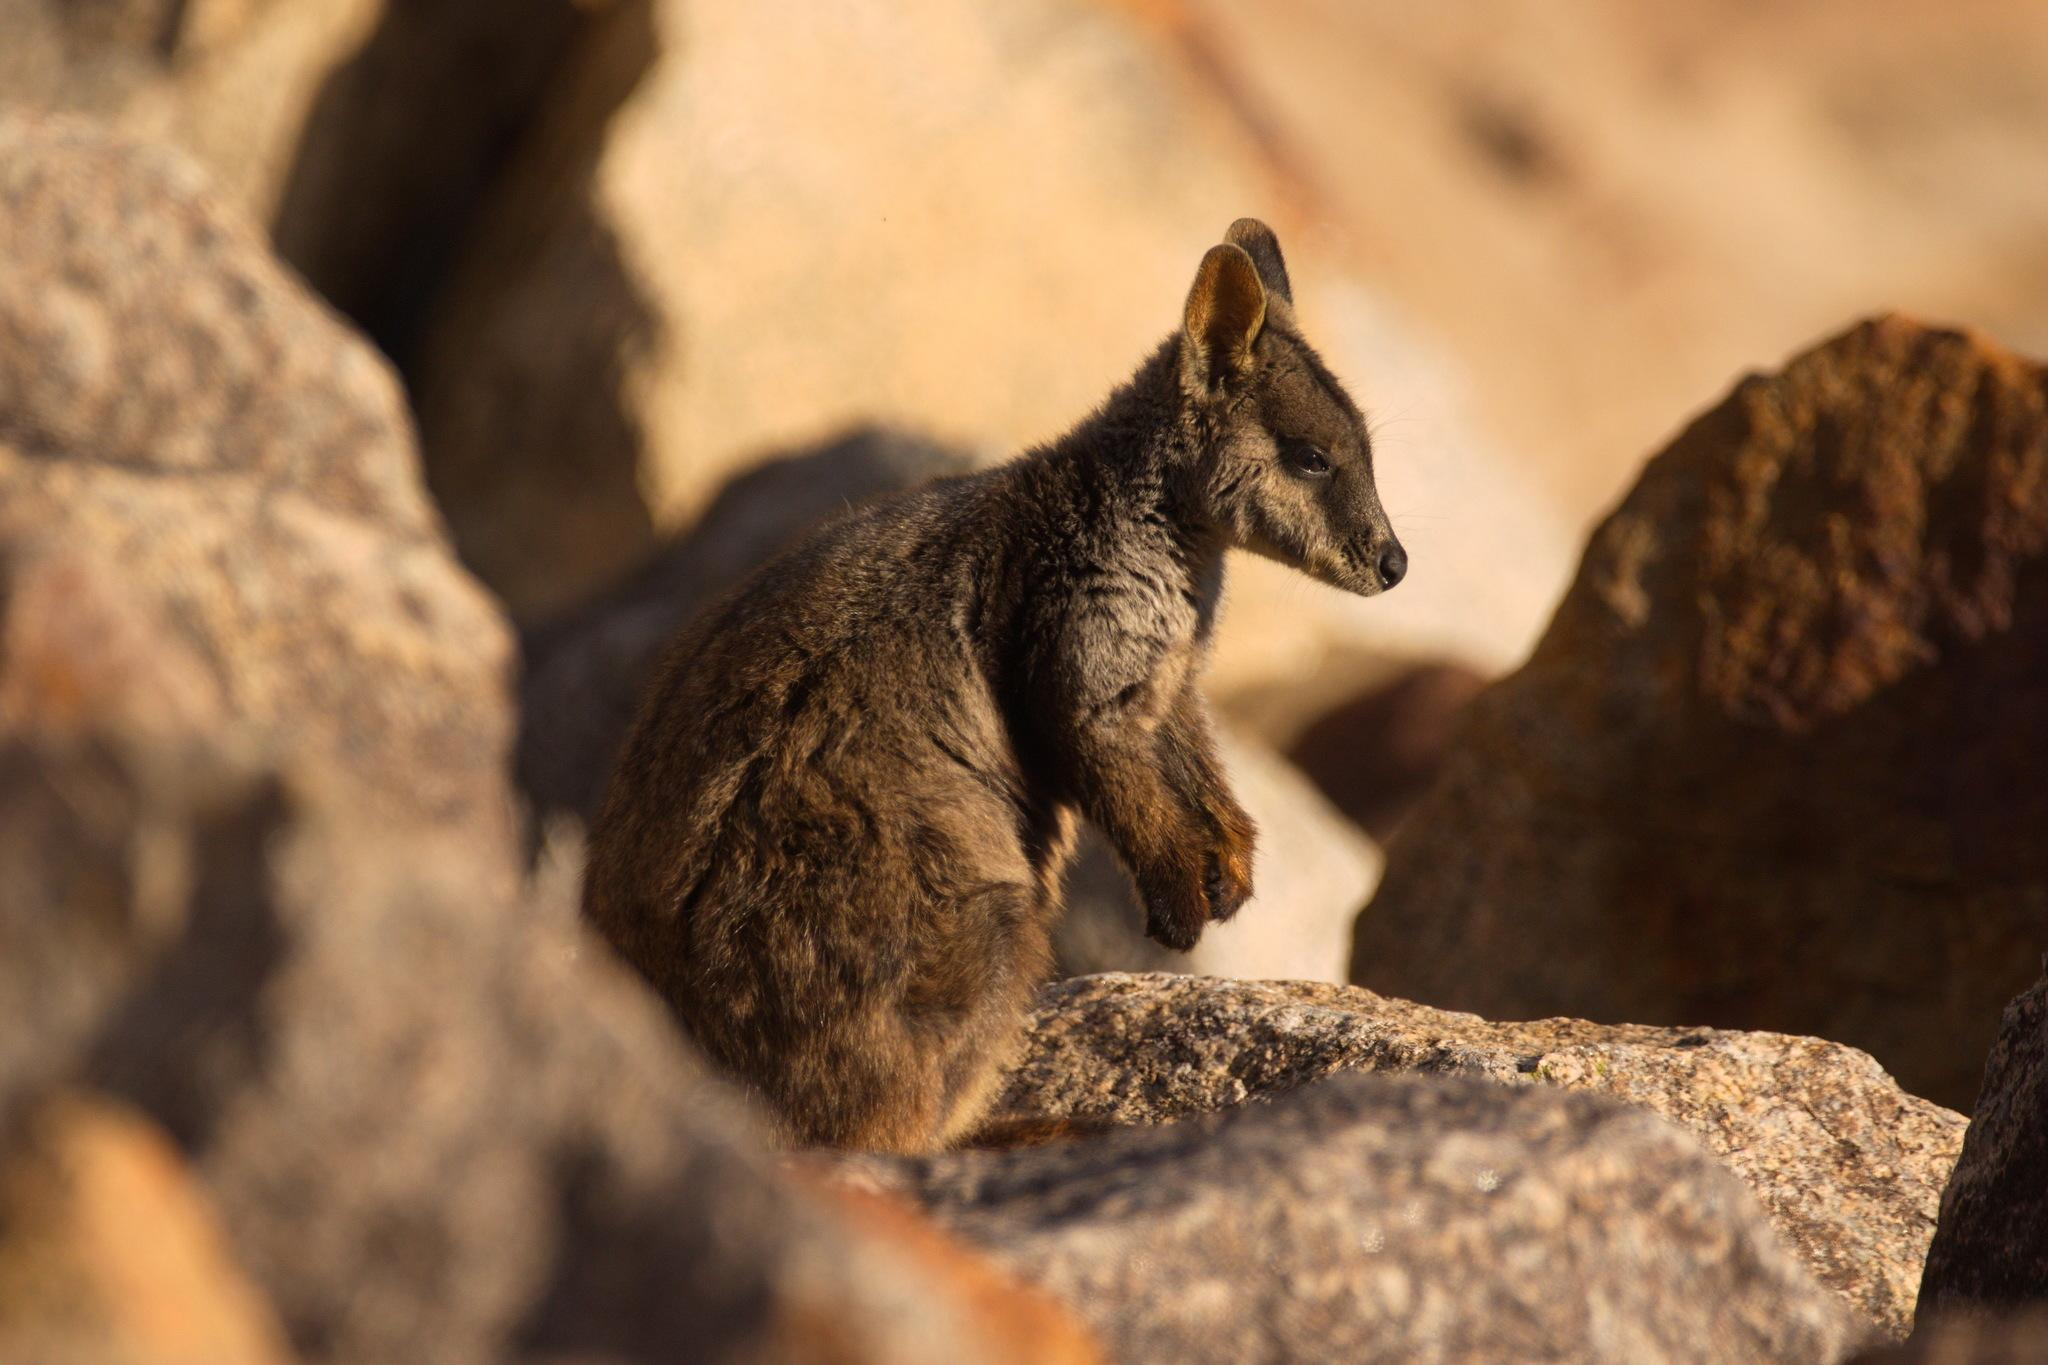Brush-tailed rock-wallaby: (542, 204, 1421, 1176)
